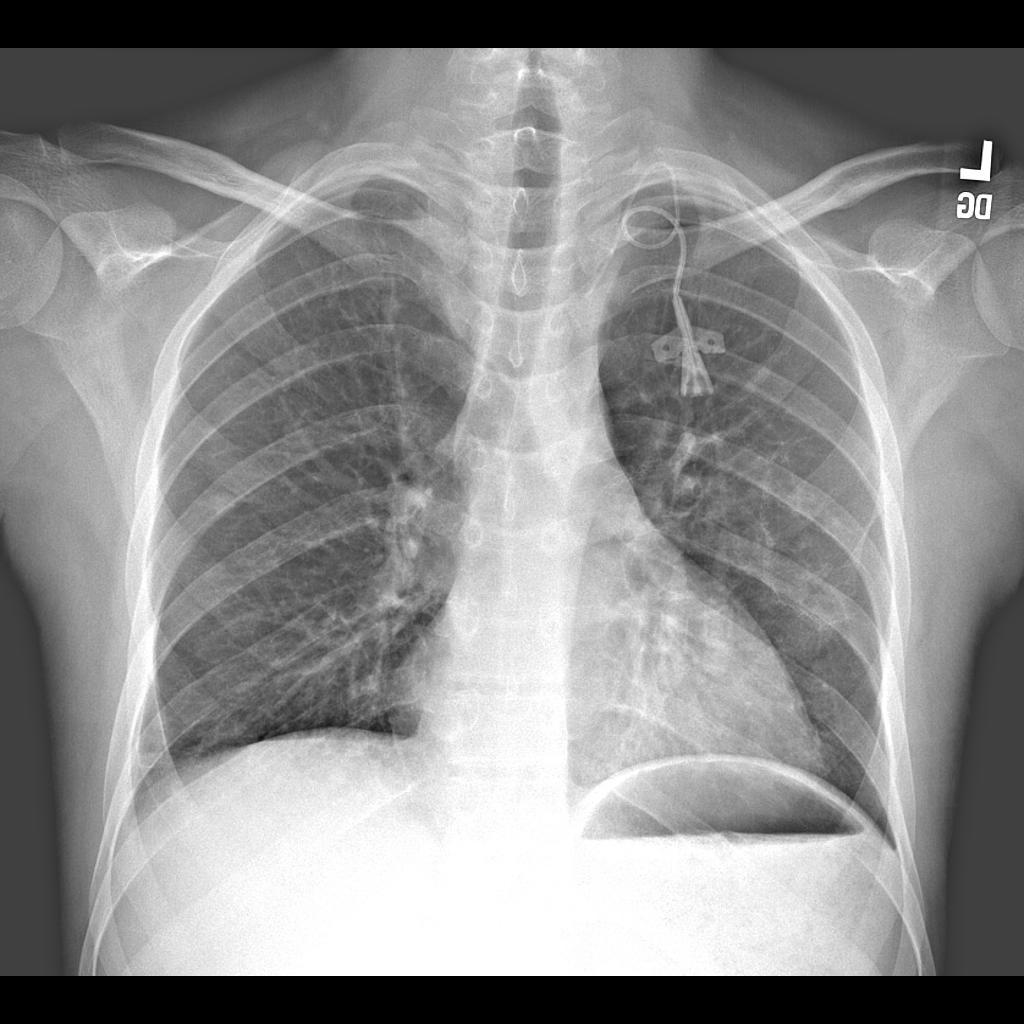Nodule: (194, 491, 241, 527)
